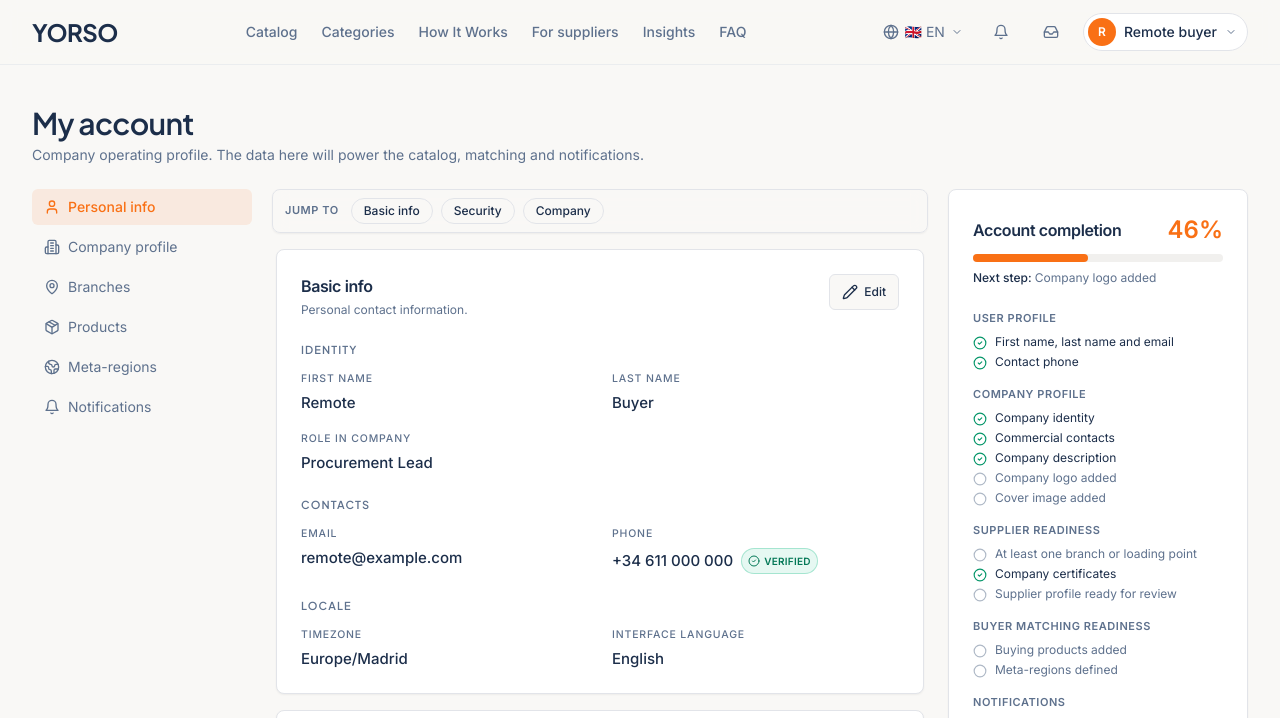
Scenario: Account editability › self-hosted account mode saves personal edits to backend before leaving edit mode
The width and height of the screenshot is (1280, 718).
Click the button with test id "account-card-personal-basic-edit": (864, 292) [829,274,899,310]
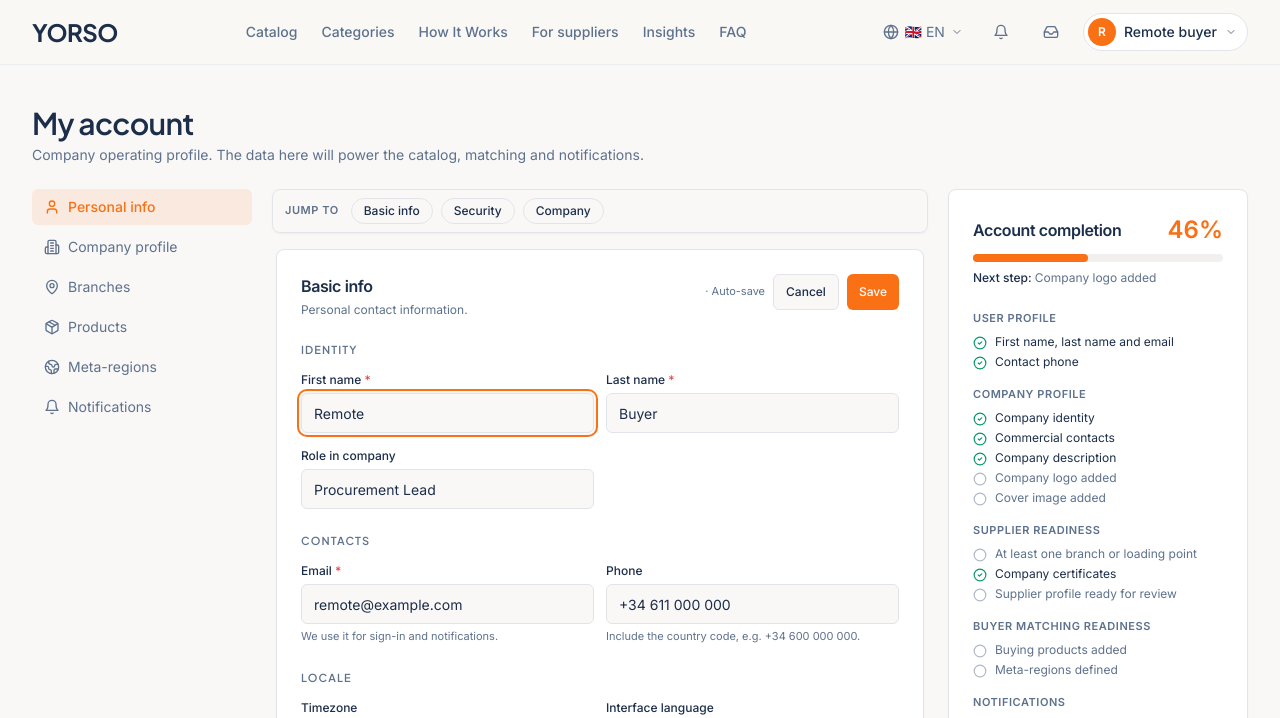
Replace the text in the field with test id "account-input-firstName" with "Alicia": (448, 413) [301,393,594,433]
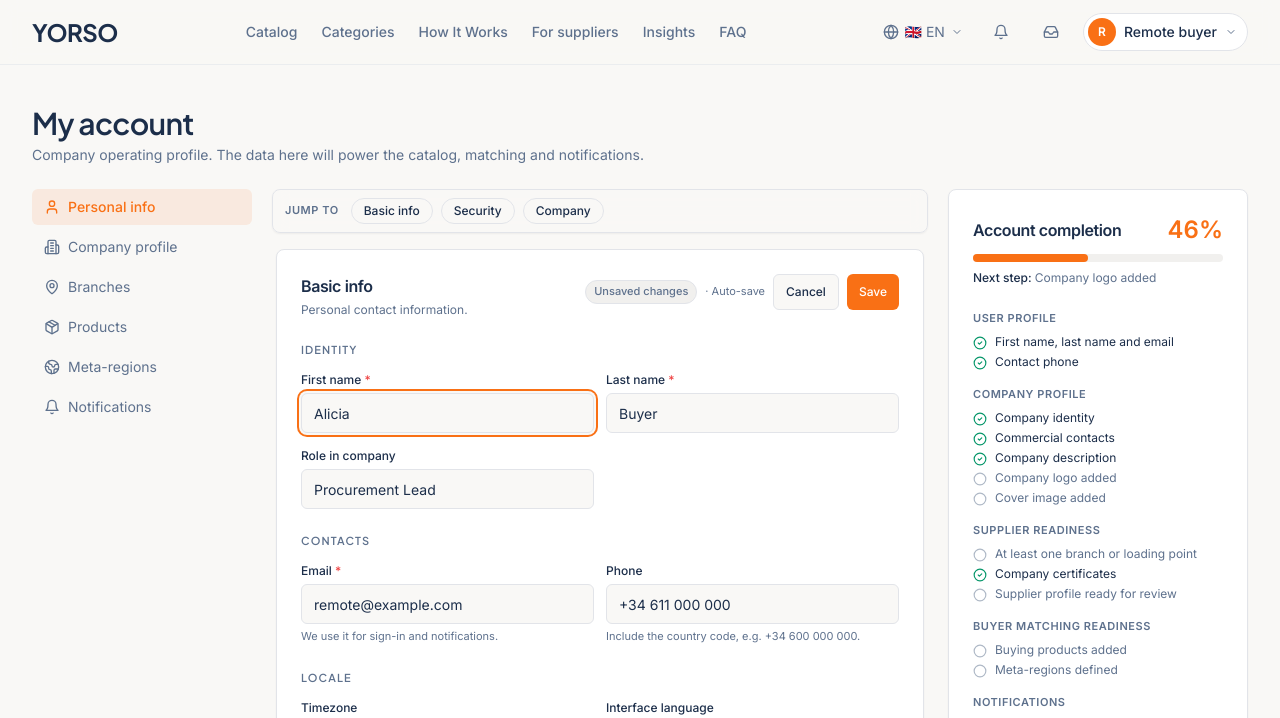
Click the button with test id "account-card-personal-basic-save": (873, 292) [847,274,899,310]
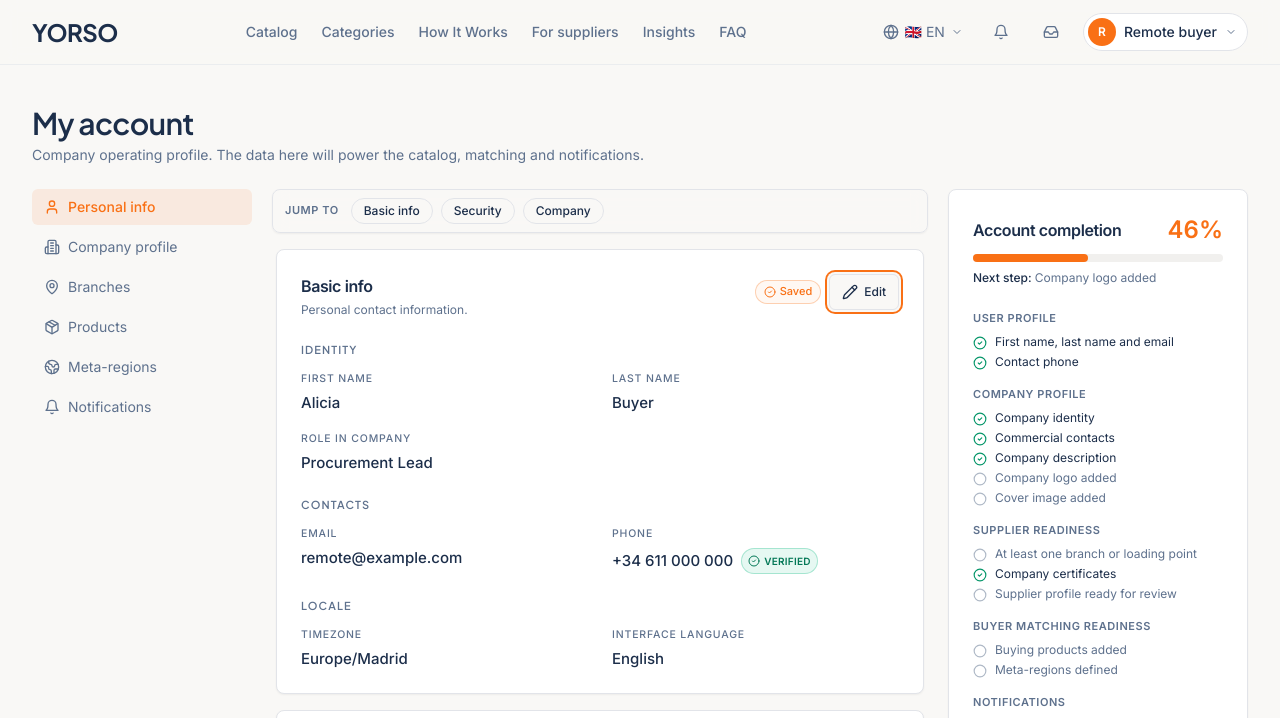
Now the text "Alicia" is shown, box [301,393,340,413]
